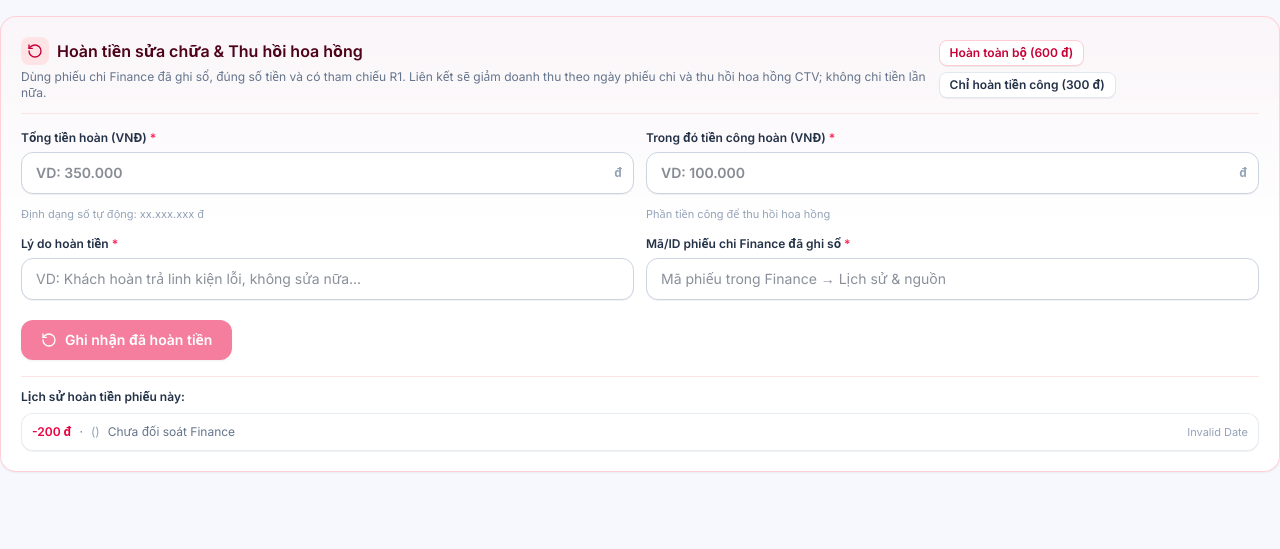
Test: blocks corrupt storage and write failures before making a request
Expected: the button "Ghi nhận đã hoàn tiền" is disabled, [21, 320, 232, 360]
Click the button "Hoàn toàn bộ (600 đ)" at x=1011, y=53, box [938, 40, 1084, 66]
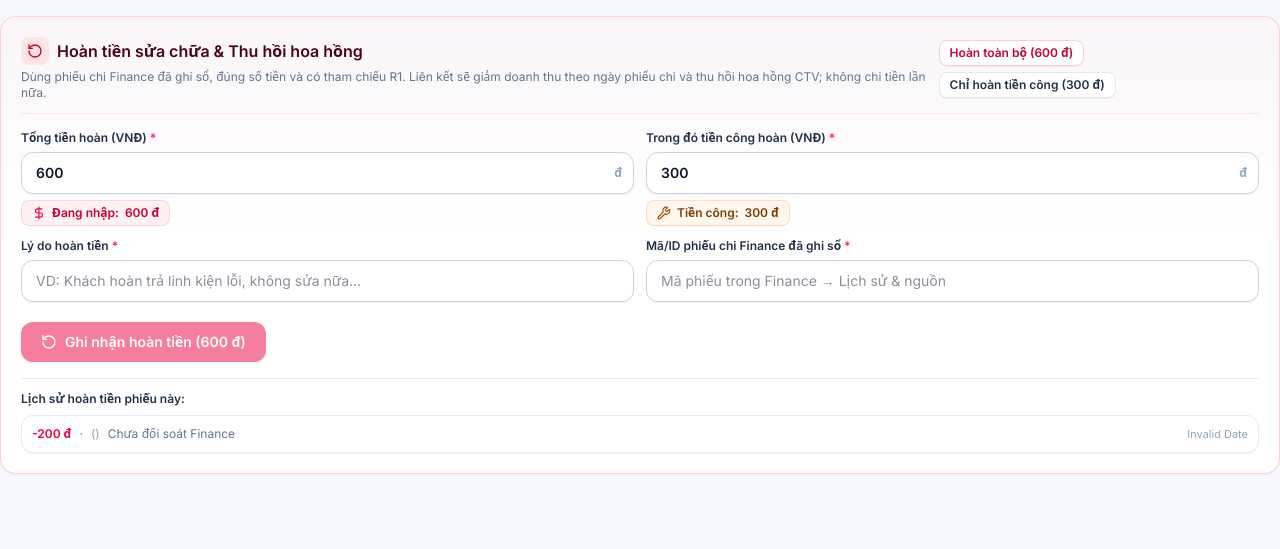
Type "Refund" into the field with placeholder "VD: Khách hoàn trả linh kiện lỗi, không sửa nữa..." at x=328, y=281, box [21, 260, 634, 302]
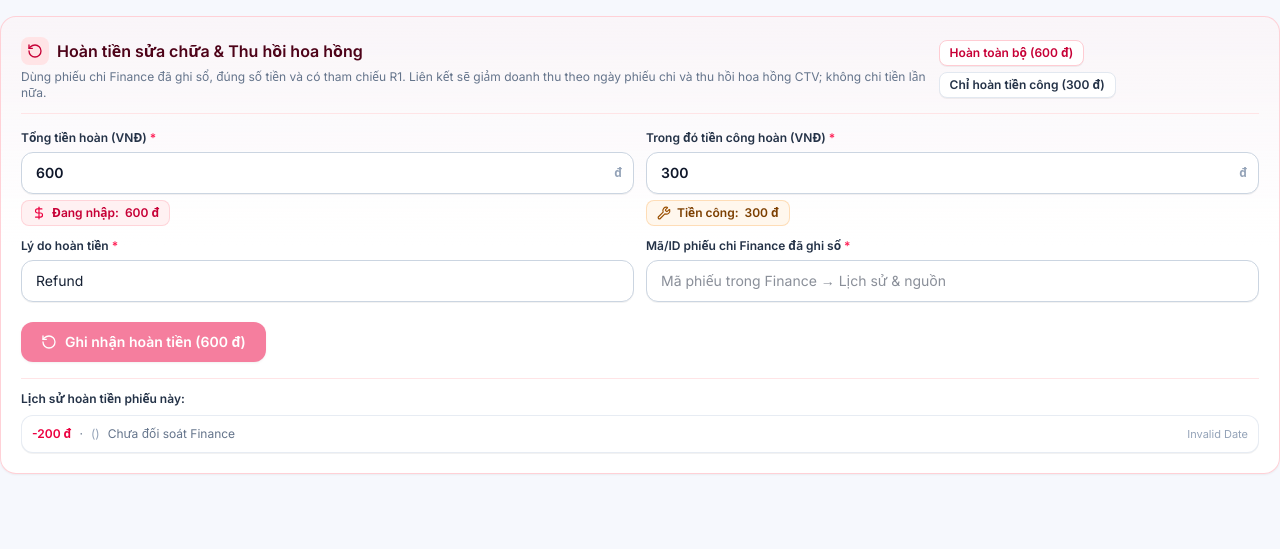
Type "PC1" into the field with placeholder "Mã phiếu trong Finance → Lịch sử & nguồn" at x=952, y=281, box [646, 260, 1259, 302]
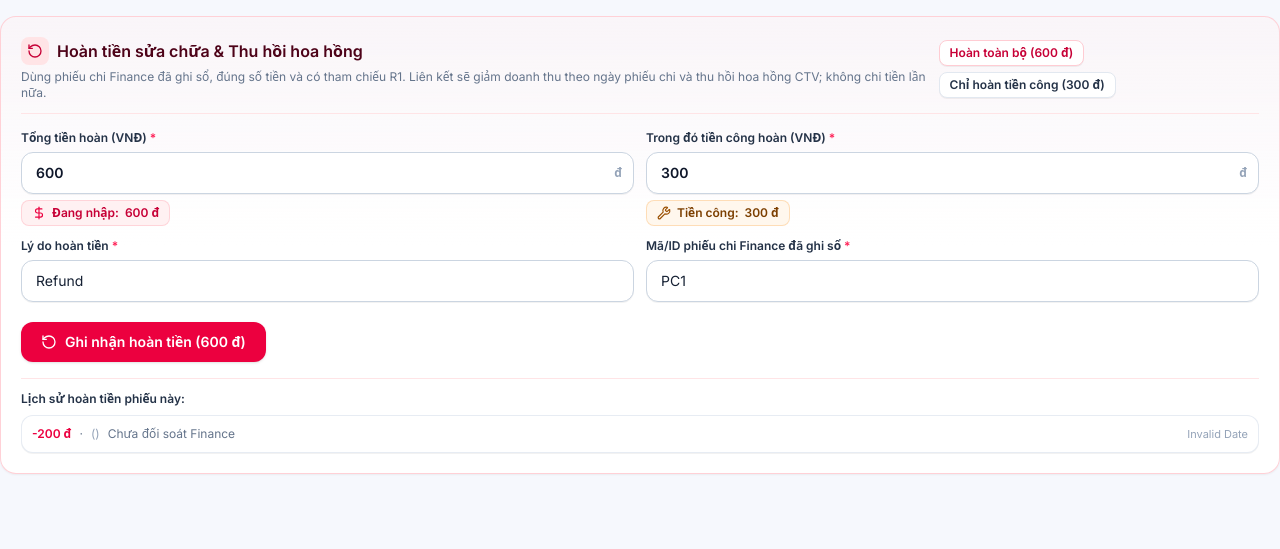
Click the button "Ghi nhận hoàn tiền (600 đ)" at x=143, y=342, box [21, 322, 266, 362]
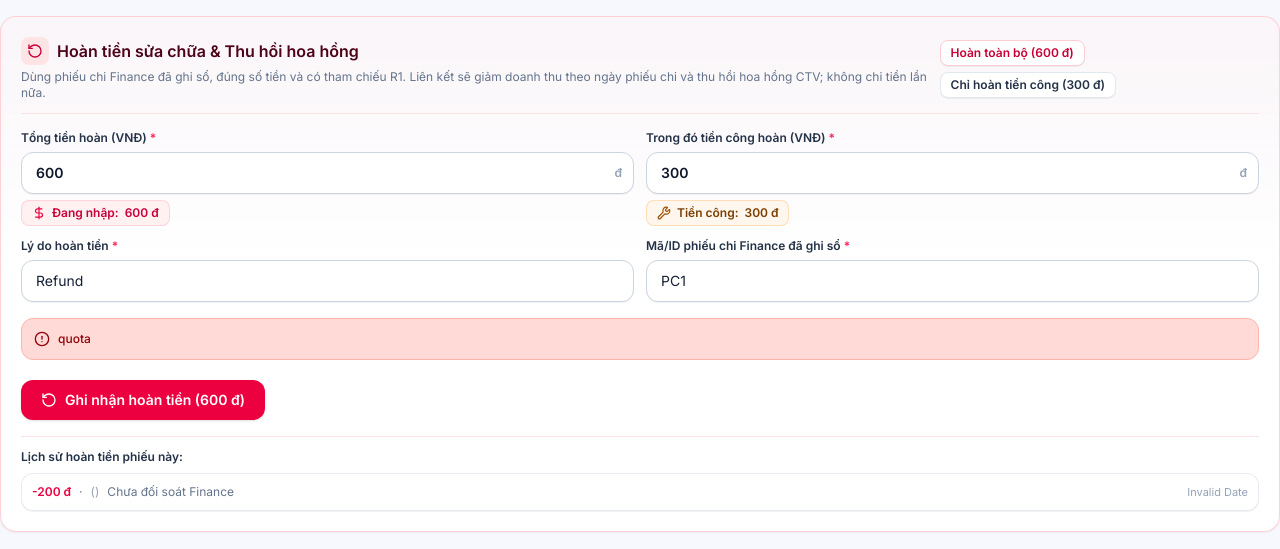
Expected: the message "quota" is shown, [21, 318, 1259, 360]
